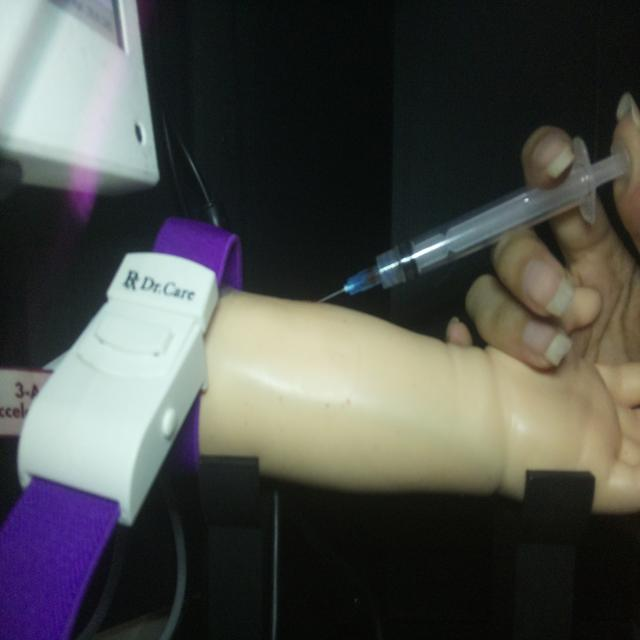17 degrees: (316, 129, 633, 306)
